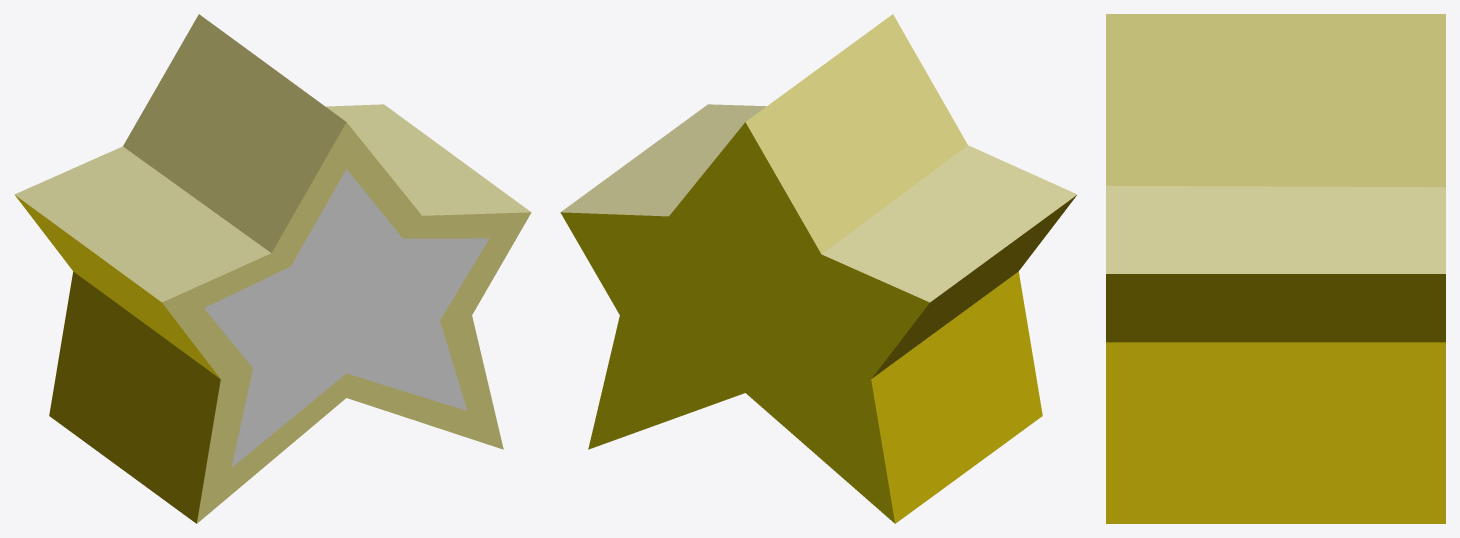
The model's file is HolidayStarProgressMeterOrnament.glb.
3 renders of one model, left to right at view 1: azimuth 30°, elevation 25°; view 2: azimuth 150°, elevation 25°; view 3: azimuth 270°, elevation 25°, orthographic. The views are drawn at different scales.
Visible parts, largest first — view 1: HolidayStarProgressMeterOrnament; view 2: HolidayStarProgressMeterOrnament; view 3: HolidayStarProgressMeterOrnament.
Boxes of the visible parts, x1,y1,x2,y2 form: HolidayStarProgressMeterOrnament: (14, 14, 531, 523); HolidayStarProgressMeterOrnament: (560, 14, 1077, 523); HolidayStarProgressMeterOrnament: (1106, 14, 1445, 523).
Bounding box in the file's own units: 0.887 × 0.8394 × 0.6135.
